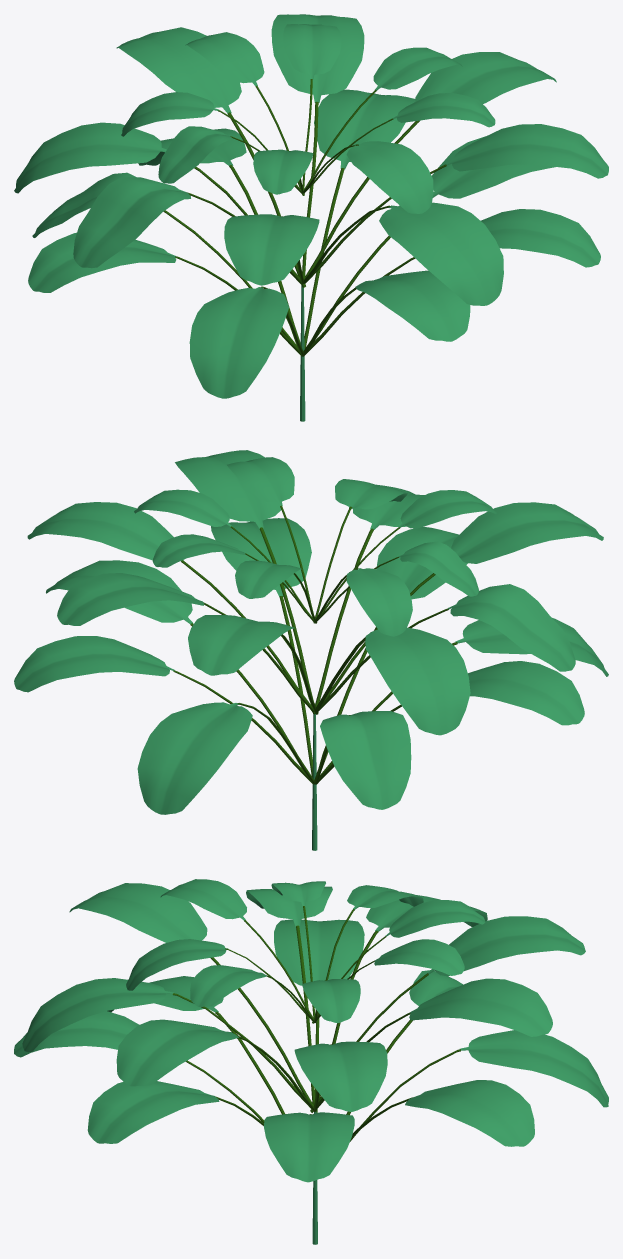
File: plant.fbx
3 views of the same model, one above another, from view 1: azimuth 30°, elevation 25°; view 2: azimuth 150°, elevation 25°; view 3: azimuth 270°, elevation 25° (orthographic). The views are drawn at different scales.
Parts seen in each view (by area): view 1: Plane.002; view 2: Plane.002; view 3: Plane.002.
Part boxes in pixels (x1,y1,x2,y2): Plane.002: [14, 14, 608, 421]; Plane.002: [14, 450, 608, 850]; Plane.002: [14, 879, 608, 1244].
Bounding box in the file's own units: 803 × 478 × 794.
